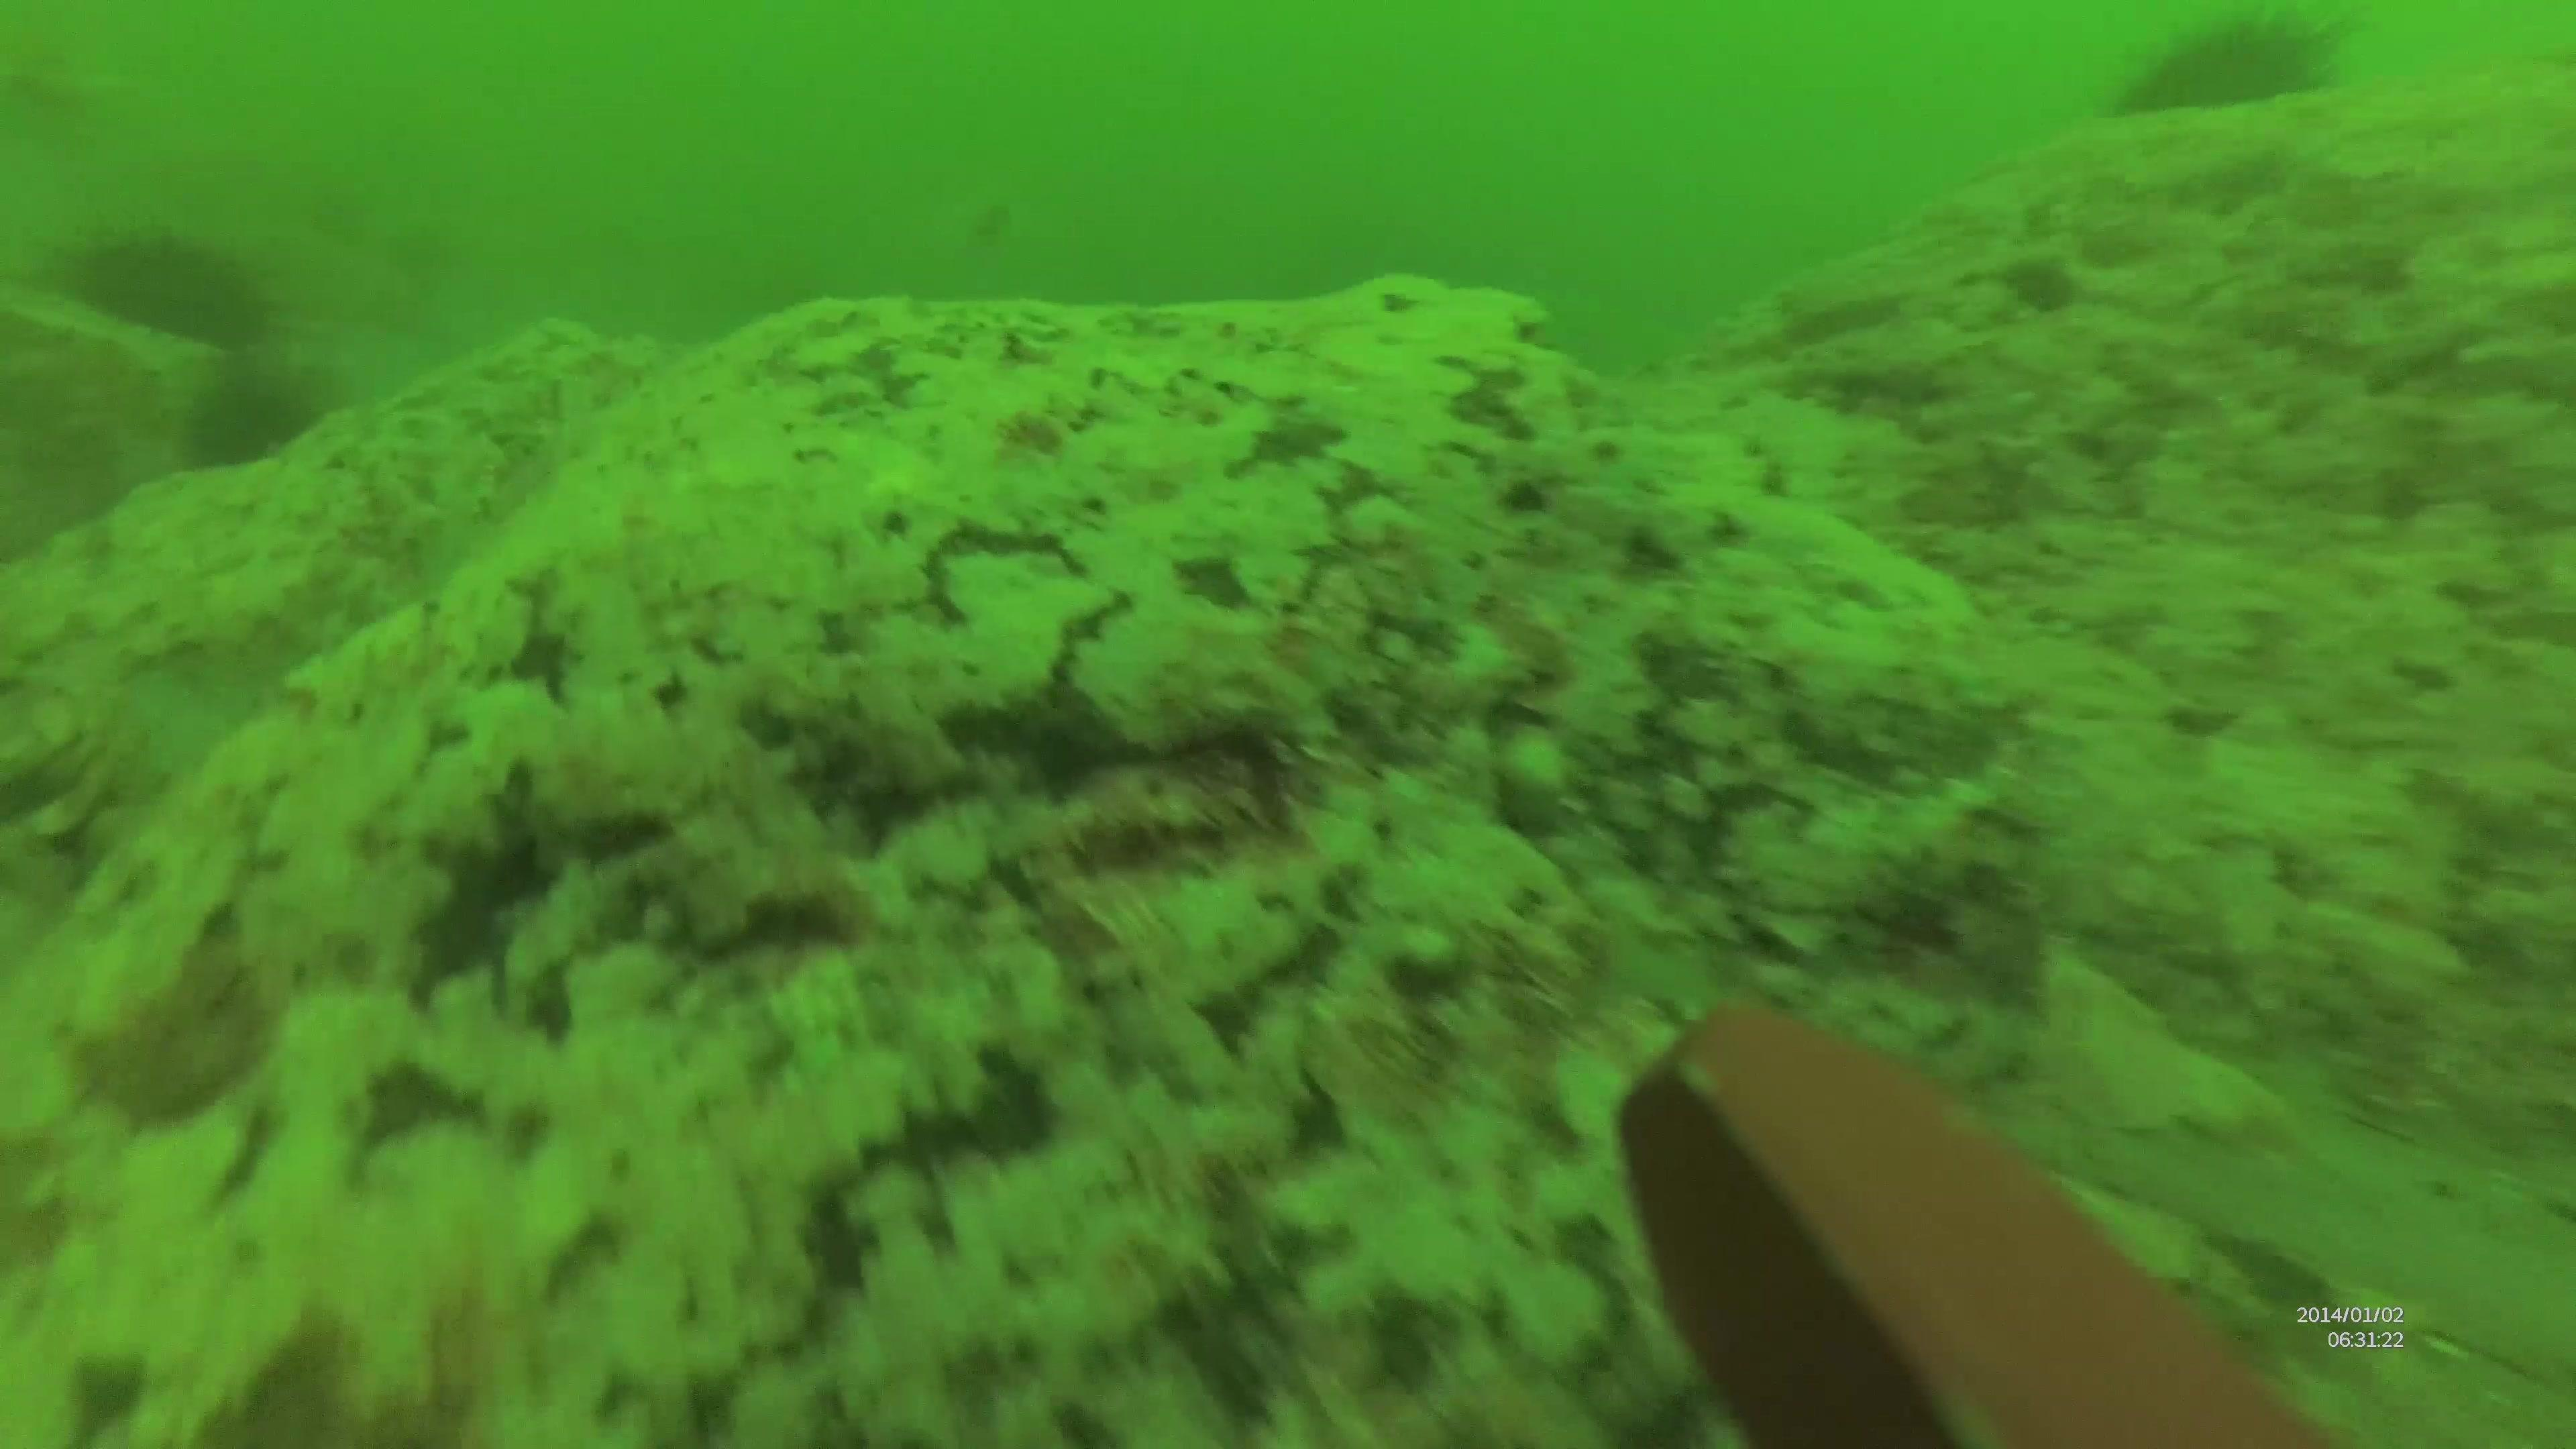echinus: (2107, 0, 2362, 127), (48, 230, 267, 359), (188, 356, 336, 478)
